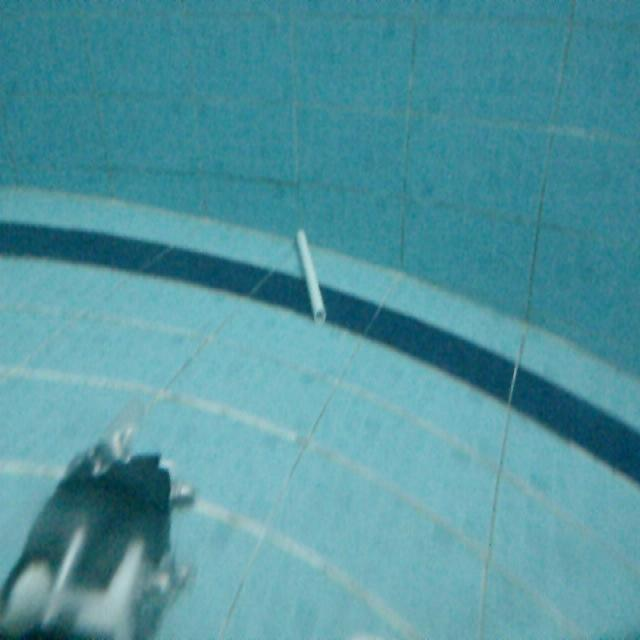Cube: (294, 226, 331, 324)
